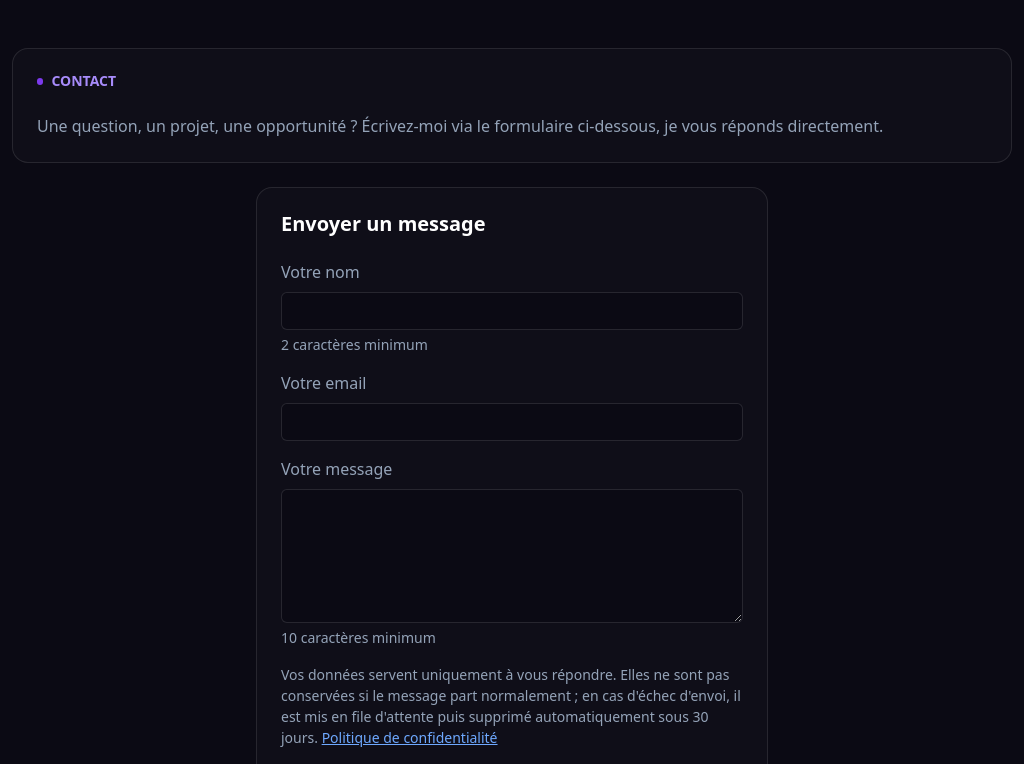
ContactPage › soumet le formulaire avec les champs saisis et affiche un message de succès
This screenshot has width=1024, height=764.
Type "Jane Doe" into the field with id "contact-name". click: (512, 311)
box: 281,292 -> 743,330
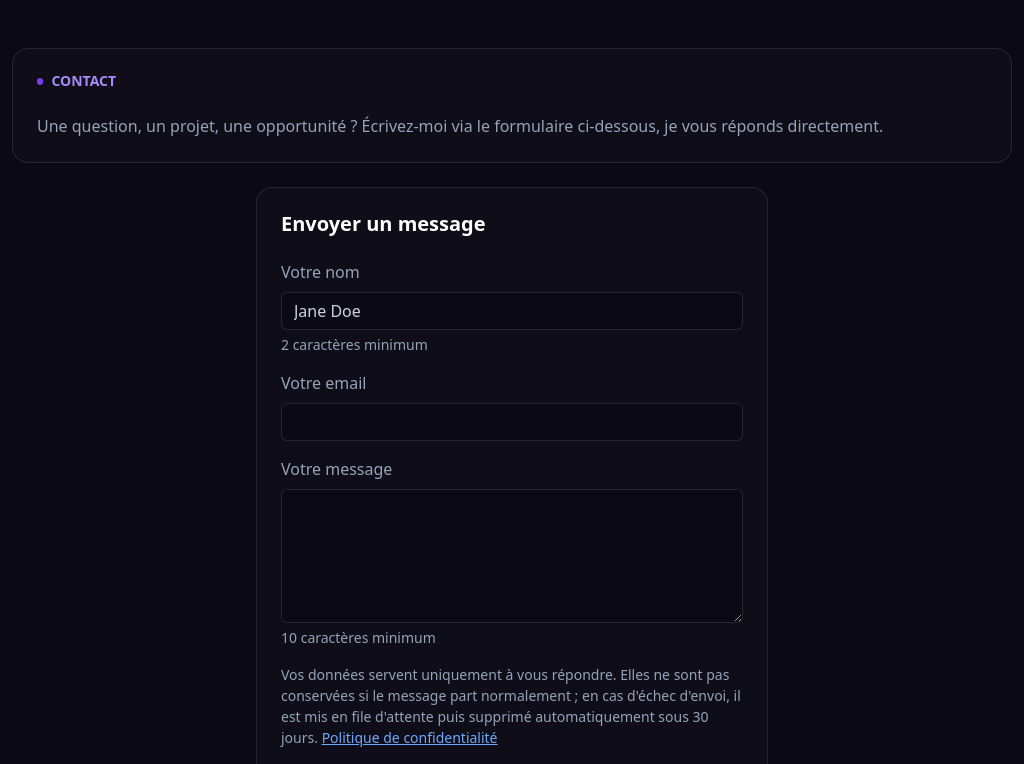
Type "jane@example.com" into the field with id "contact-email". click: (512, 422)
box: 281,403 -> 743,441
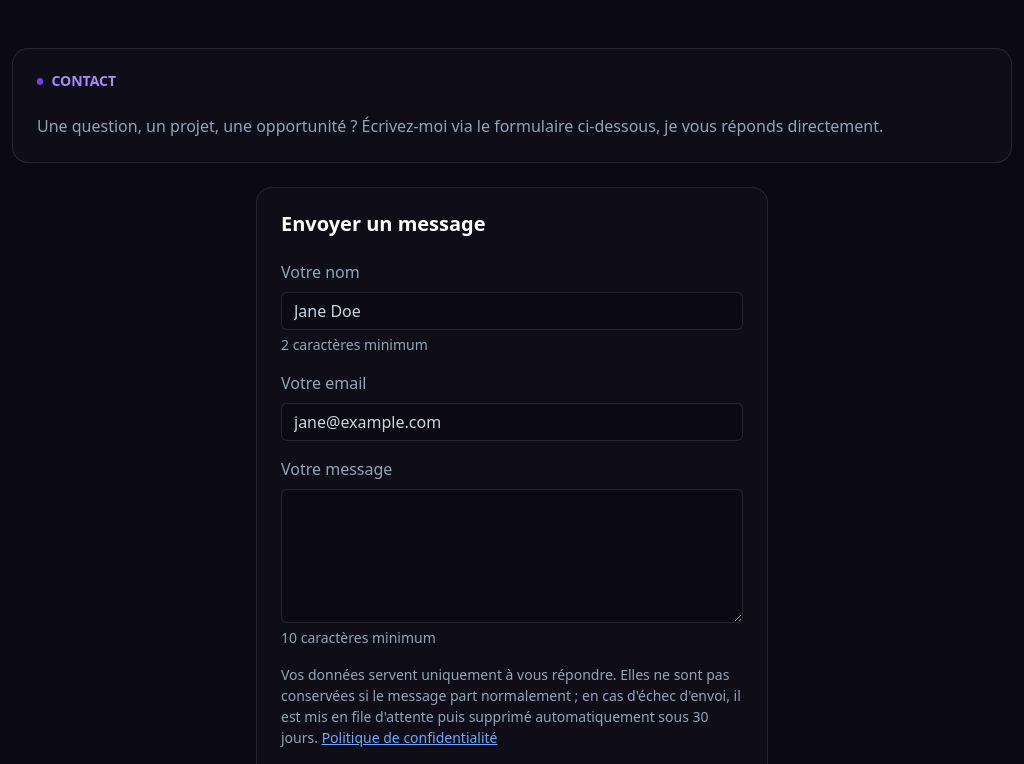
Type "Bonjour, je vous contacte au sujet de..." into the text box with id "contact-message". click: (512, 556)
box: 281,489 -> 743,623
(page scrolled)
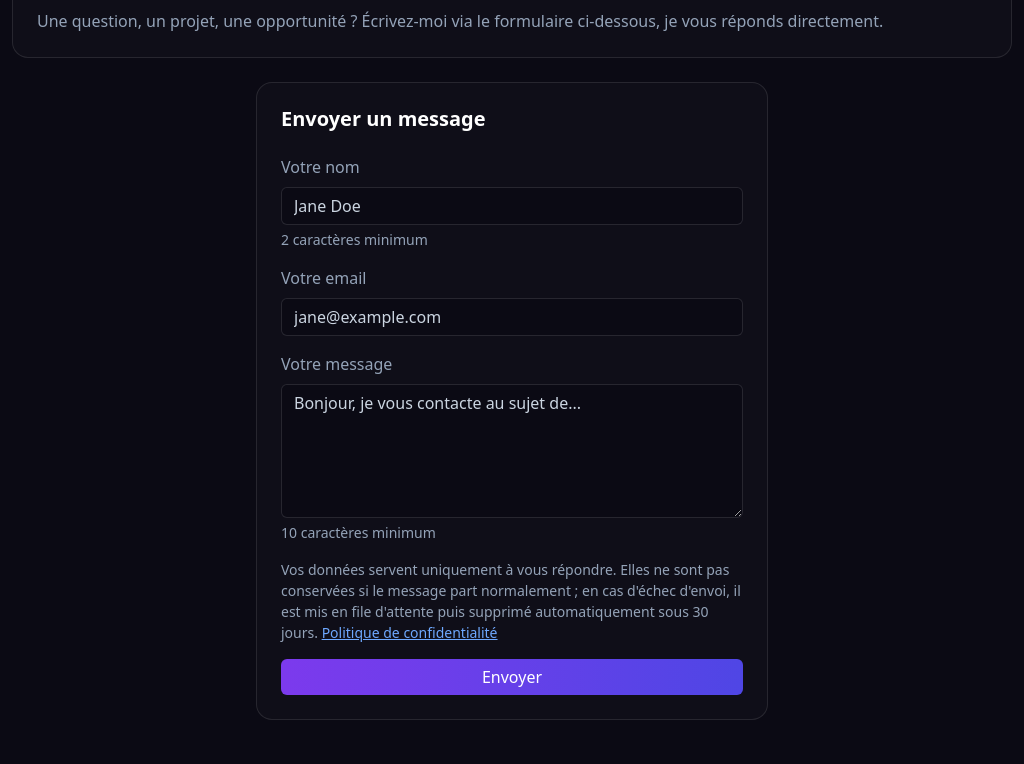
Submit the form, box 281,155 -> 743,695
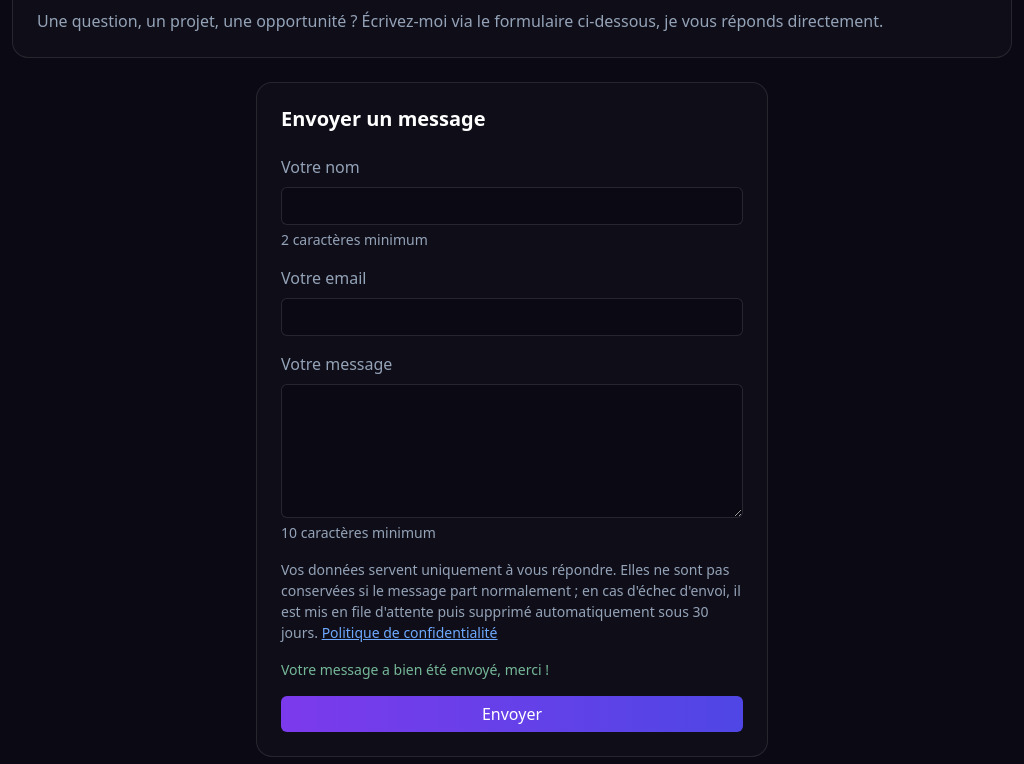
expect the message "Votre message a bien été envoyé, merci !" is shown: met, box 281,660 -> 549,679
